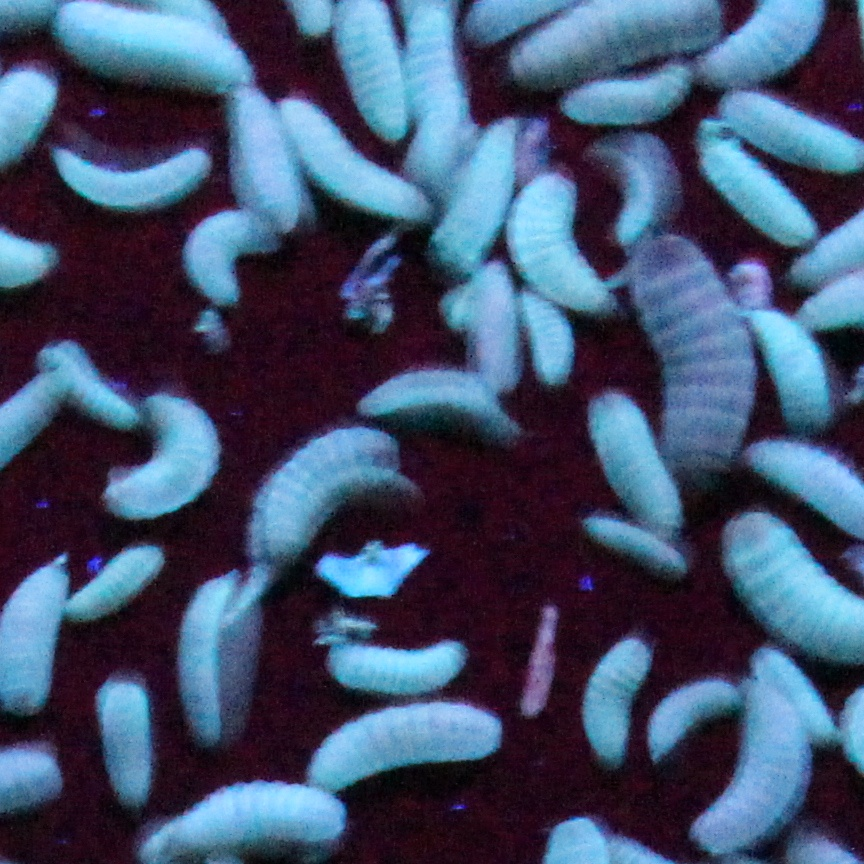larve: (624, 226, 751, 470), (239, 429, 412, 558), (274, 97, 435, 233), (58, 1, 267, 99), (578, 383, 689, 545), (510, 170, 628, 317), (696, 131, 824, 251), (299, 713, 503, 788), (110, 390, 219, 526), (151, 788, 351, 858), (219, 88, 317, 229), (435, 126, 519, 270), (744, 304, 844, 420), (355, 365, 517, 429), (1, 549, 60, 722), (580, 629, 651, 763), (317, 633, 474, 692), (49, 149, 214, 204), (185, 576, 239, 735), (646, 676, 744, 760), (183, 208, 271, 301), (96, 681, 158, 810), (69, 545, 167, 624), (583, 517, 696, 583), (567, 70, 699, 124), (762, 647, 835, 738), (46, 349, 137, 420), (517, 295, 578, 390)
